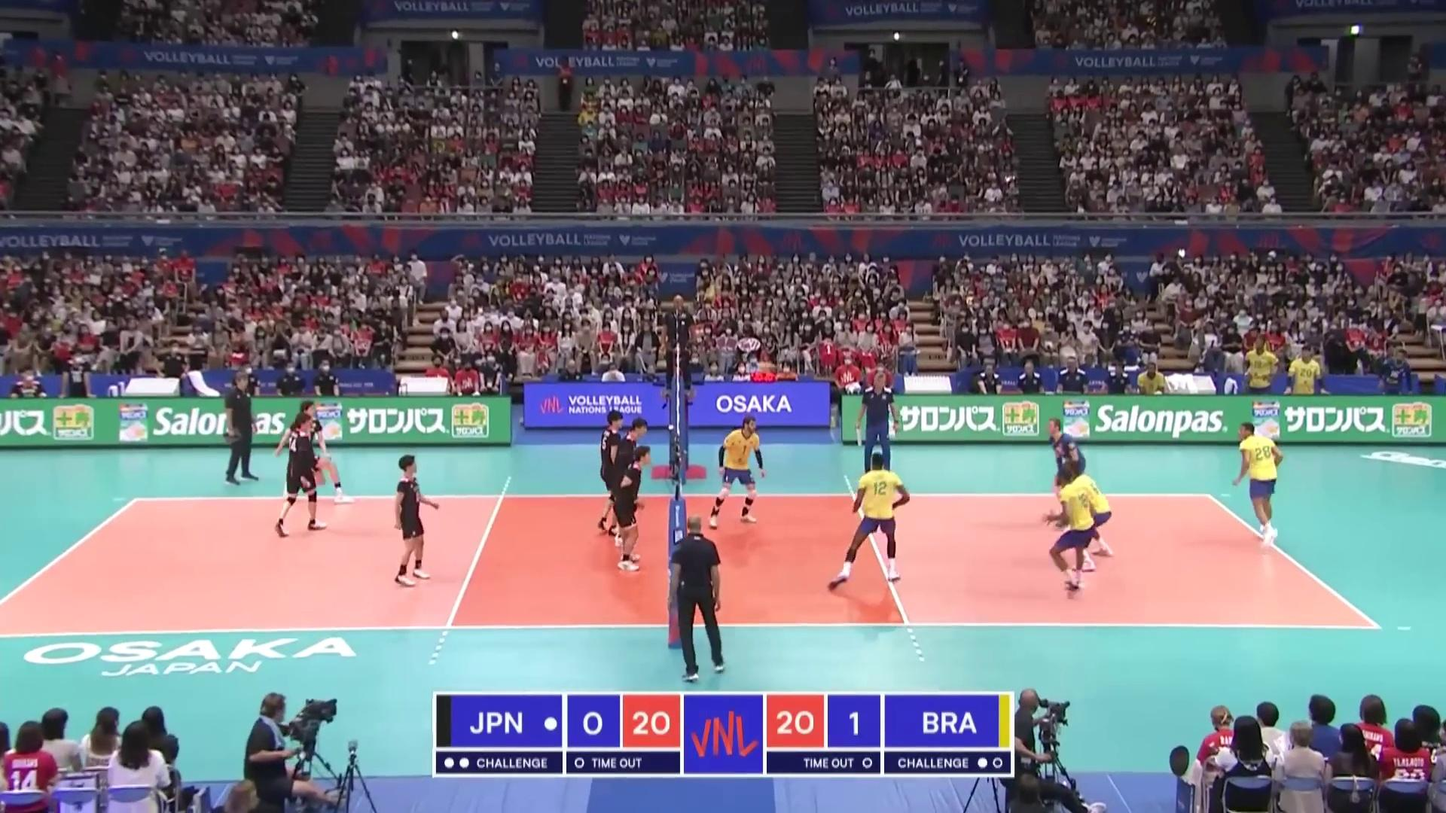player: (828, 452, 910, 591), (281, 401, 351, 505), (1063, 462, 1118, 575), (276, 413, 326, 537), (390, 455, 437, 583), (1049, 468, 1094, 599), (710, 416, 764, 524), (1042, 416, 1097, 518), (1238, 423, 1284, 544), (615, 447, 650, 573), (614, 418, 648, 547), (598, 410, 629, 535)
refree: (665, 518, 722, 680), (661, 294, 694, 402)
